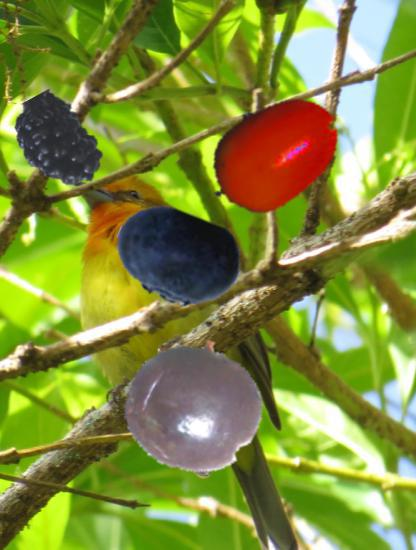Blueberry: (113, 193, 242, 322)
Kaki: (202, 83, 345, 226)
Mulberry: (6, 91, 109, 194)
Passion: (124, 336, 266, 478)
